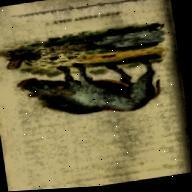boar: (14, 52, 164, 127)
